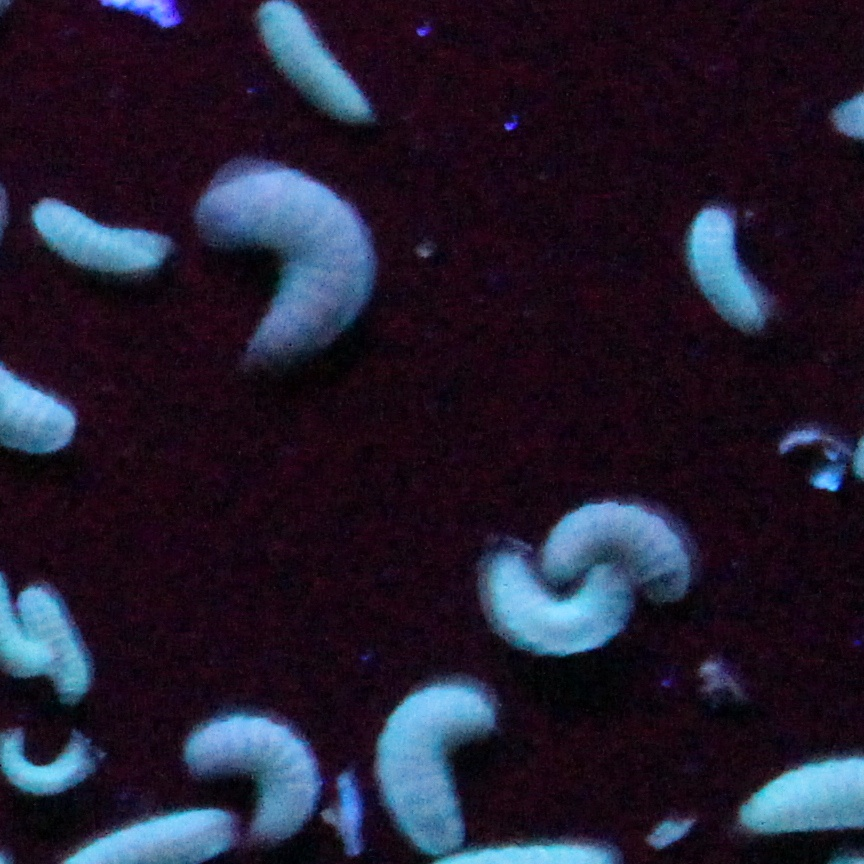larve: (202, 171, 366, 365), (382, 686, 485, 853), (539, 507, 689, 602), (194, 714, 314, 829), (486, 564, 624, 663), (690, 207, 771, 338), (36, 194, 168, 272), (25, 590, 92, 702)
